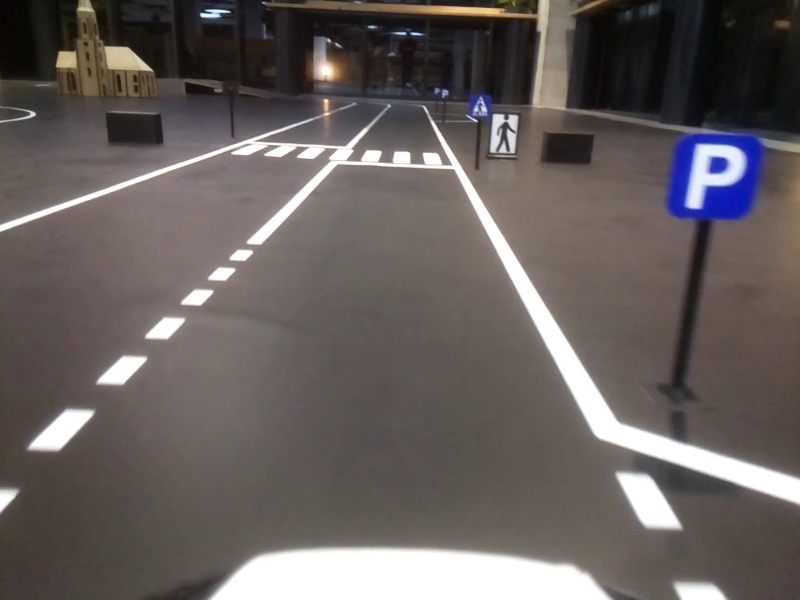park: (667, 136, 756, 224)
